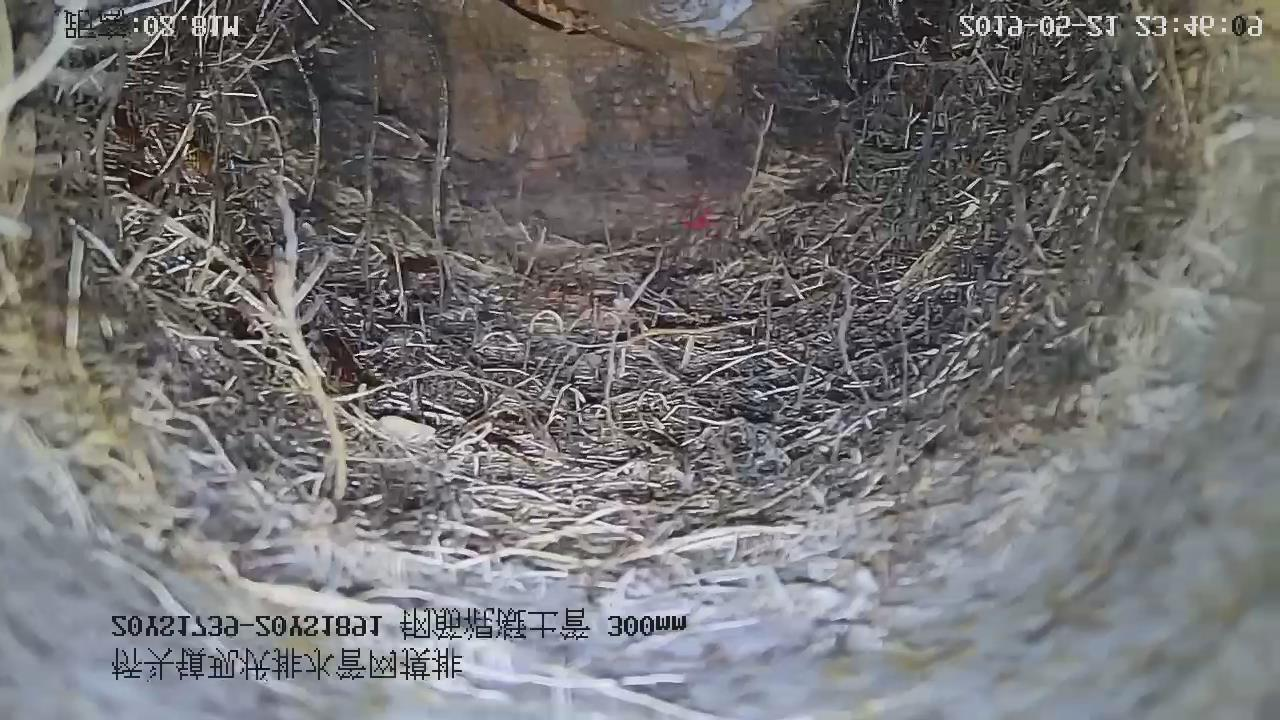SG: (0, 1, 1217, 672)
